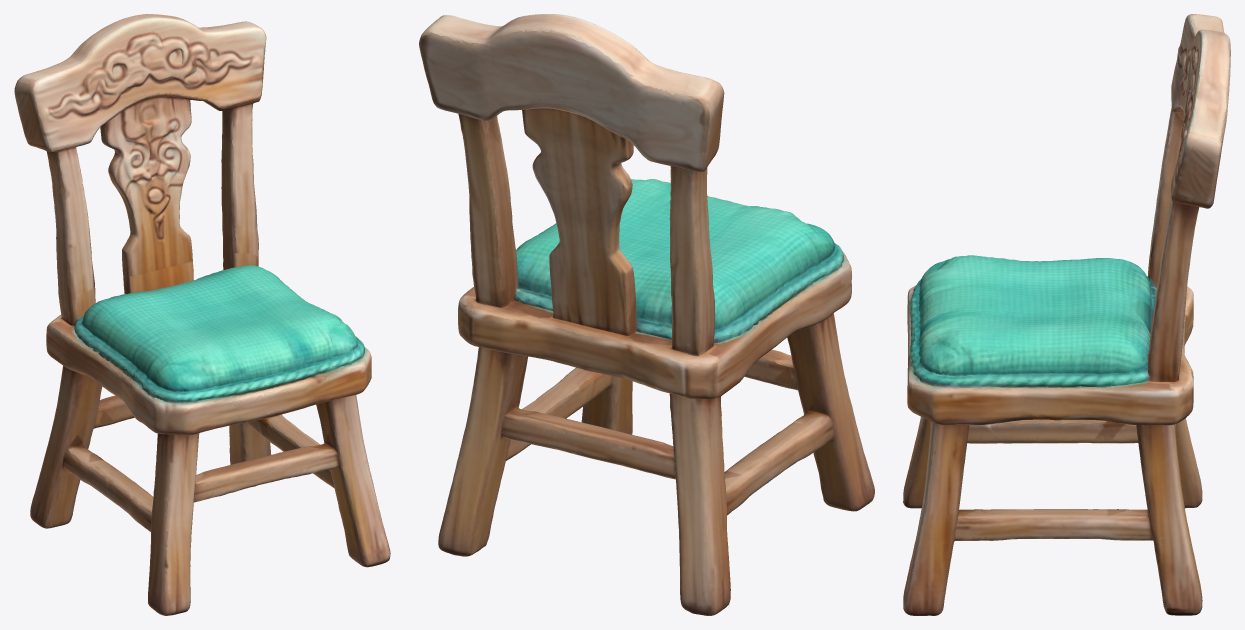
The model's file is chair-cloudwood.glb.
3 renders of one model, left to right at view 1: azimuth 30°, elevation 25°; view 2: azimuth 150°, elevation 25°; view 3: azimuth 270°, elevation 25°, orthographic. The views are drawn at different scales.
Visible parts, largest first — view 1: geometry_0; view 2: geometry_0; view 3: geometry_0.
Boxes of the visible parts, left/top/right/bottom form: geometry_0: left=14, top=14, right=390, bottom=615; geometry_0: left=419, top=14, right=874, bottom=615; geometry_0: left=903, top=14, right=1230, bottom=615.
Bounding box in the file's own units: 0.4029 × 0.75 × 0.4321.
Materials: 1 (1 with a texture image).
